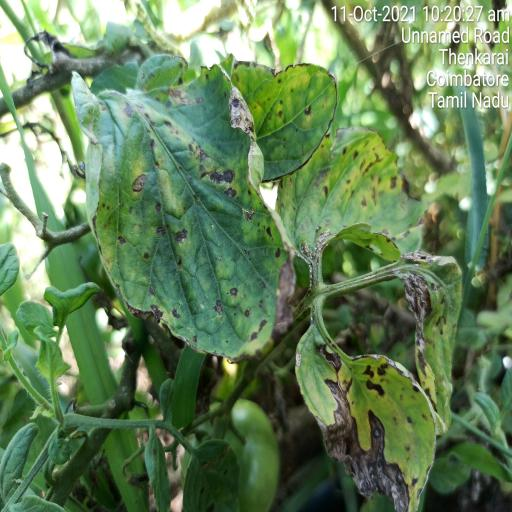Early Blight: (71, 64, 285, 362), (295, 331, 438, 510), (277, 126, 428, 262), (397, 246, 464, 430)
